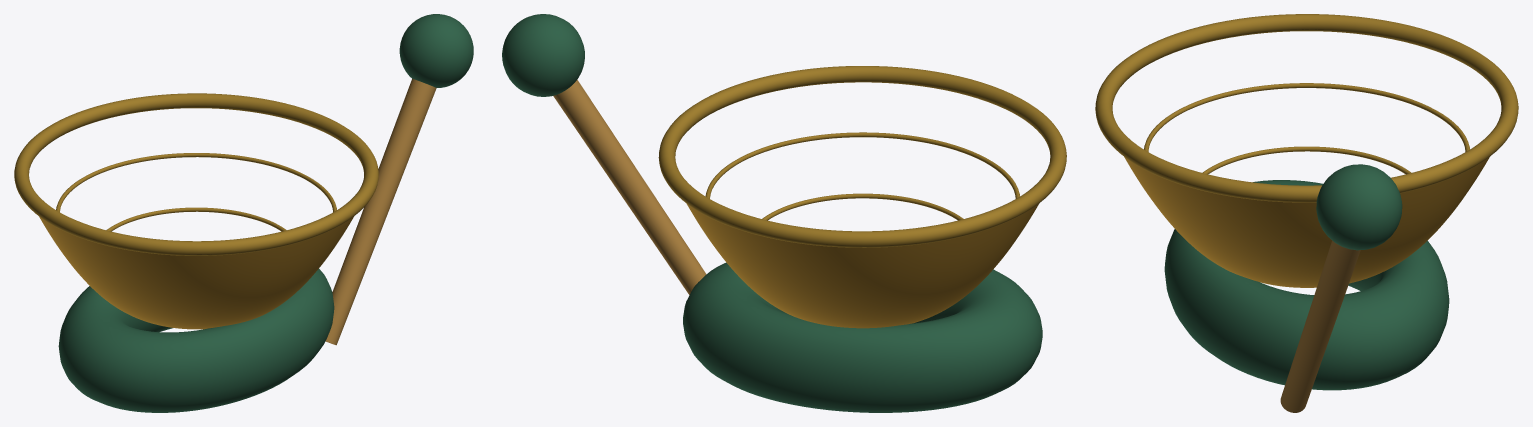
File: zensea-bol-chantant.glb
The picture shows the model from 3 angles, left to right: view 1: azimuth 30°, elevation 25°; view 2: azimuth 150°, elevation 25°; view 3: azimuth 270°, elevation 25°; orthographic projection. The views are drawn at different scales.
Parts seen in each view (by area): view 1: zensea-bol-chantant; view 2: zensea-bol-chantant; view 3: zensea-bol-chantant.
Part boxes in pixels (x1,y1,x2,y2): zensea-bol-chantant: [14, 14, 473, 412]; zensea-bol-chantant: [502, 14, 1066, 412]; zensea-bol-chantant: [1095, 14, 1518, 412].
Bounding box in the file's own units: 0.2674 × 0.1552 × 0.1866.
